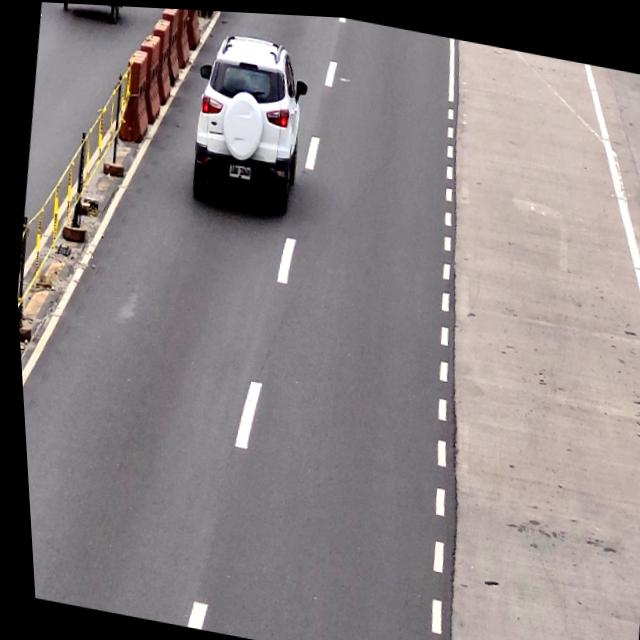Car: (181, 26, 310, 212)
License-Plate: (224, 157, 251, 182)
